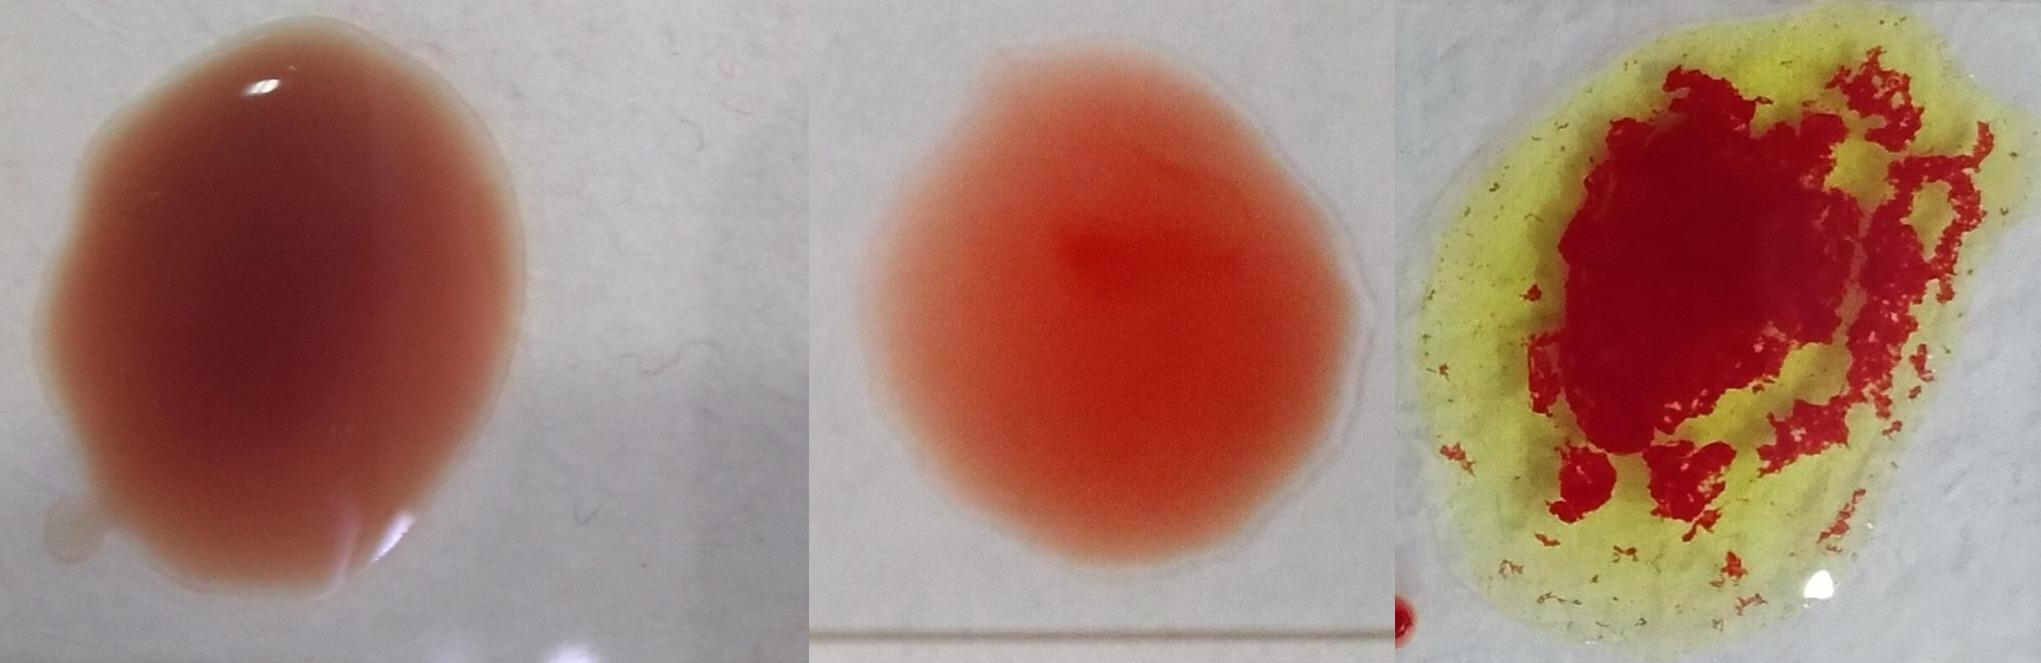B: (1415, 14, 1989, 641)
